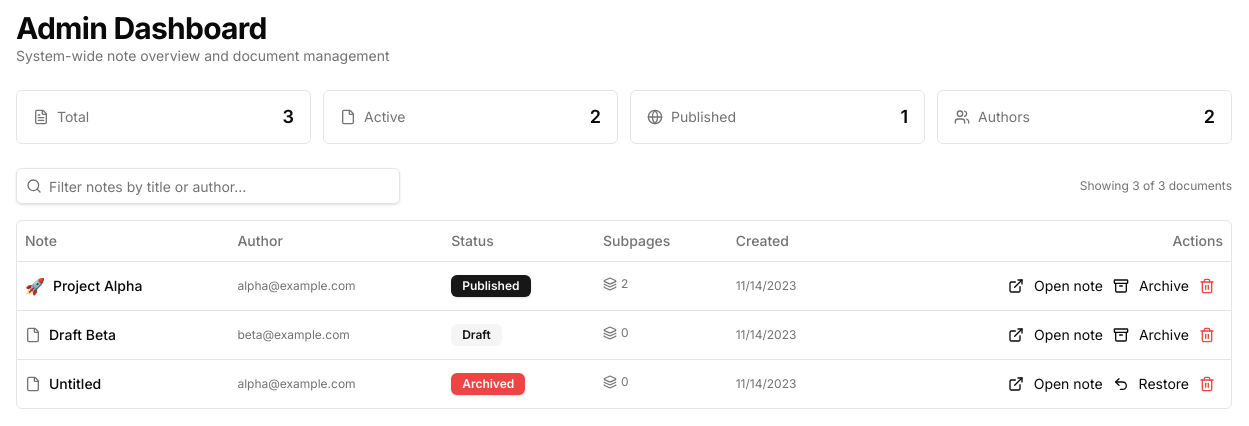
Test case: AdminPage › when user is administrator and data is loaded › filters documents table by search query
In the search field with placeholder "Filter notes by title or author...": (208, 186) x1=16 y1=168 x2=400 y2=204, type "Alpha"
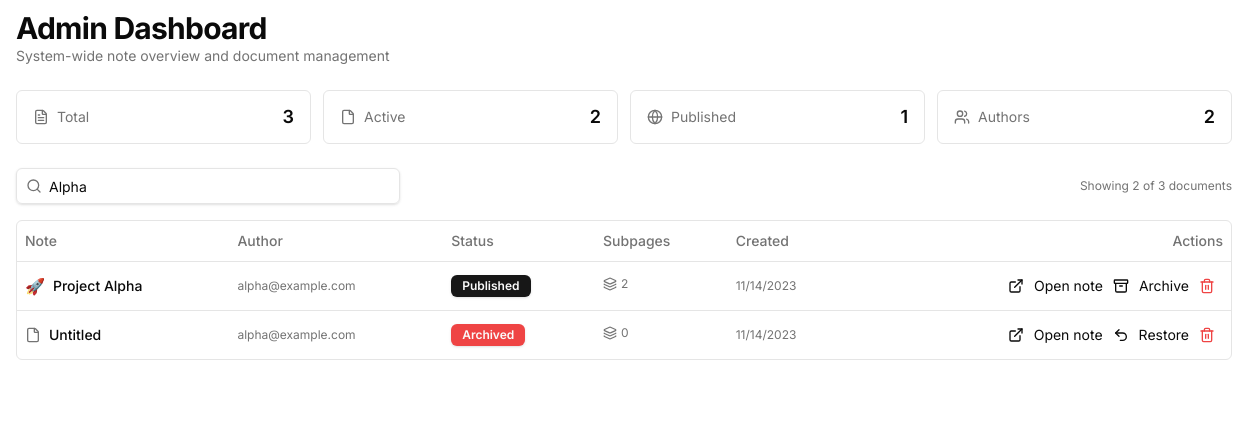
Expected: the text "Project Alpha" is shown, x1=53 y1=276 x2=142 y2=296
Now the text "Draft Beta" is gone
Replace the text in the search field with placeholder "Filter notes by title or author..." with "alpha@": (208, 186) x1=16 y1=168 x2=400 y2=204
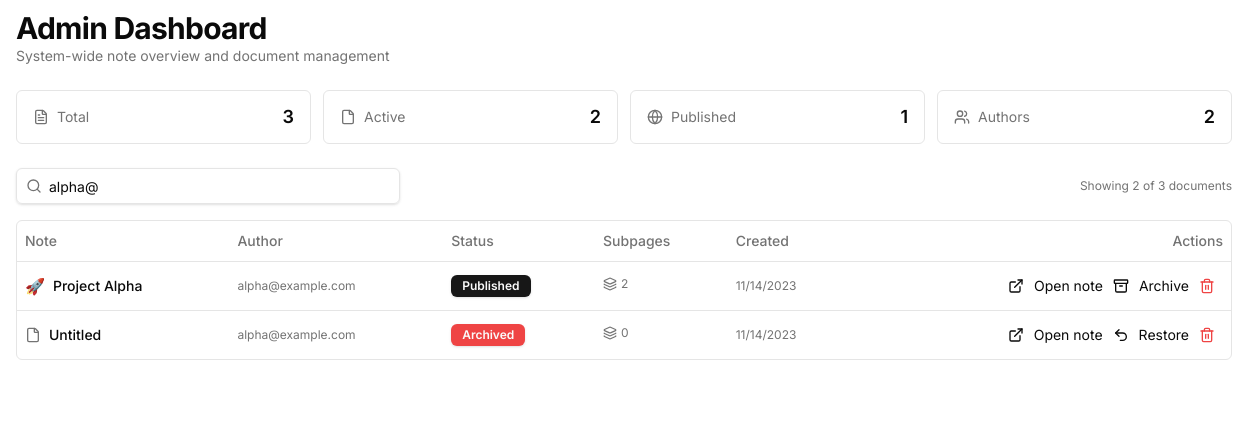
Expected: the text "Project Alpha" is shown, x1=53 y1=276 x2=142 y2=296
Expected: the text "Draft Beta" is not shown
Replace the text in the search field with placeholder "Filter notes by title or author..." with "nonexistent": (208, 186) x1=16 y1=168 x2=400 y2=204
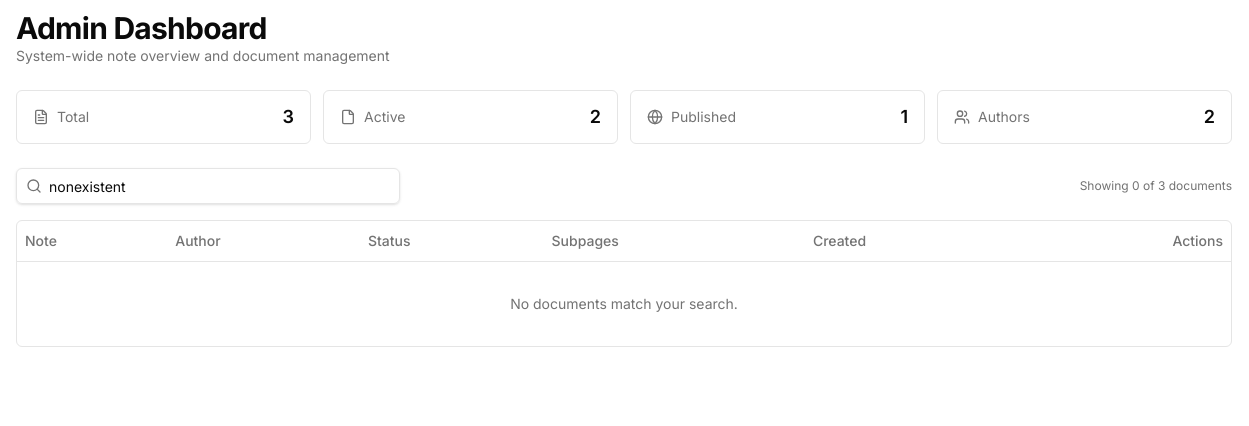
Now the text "No documents match your search." is shown, box x1=17 y1=261 x2=1231 y2=346
